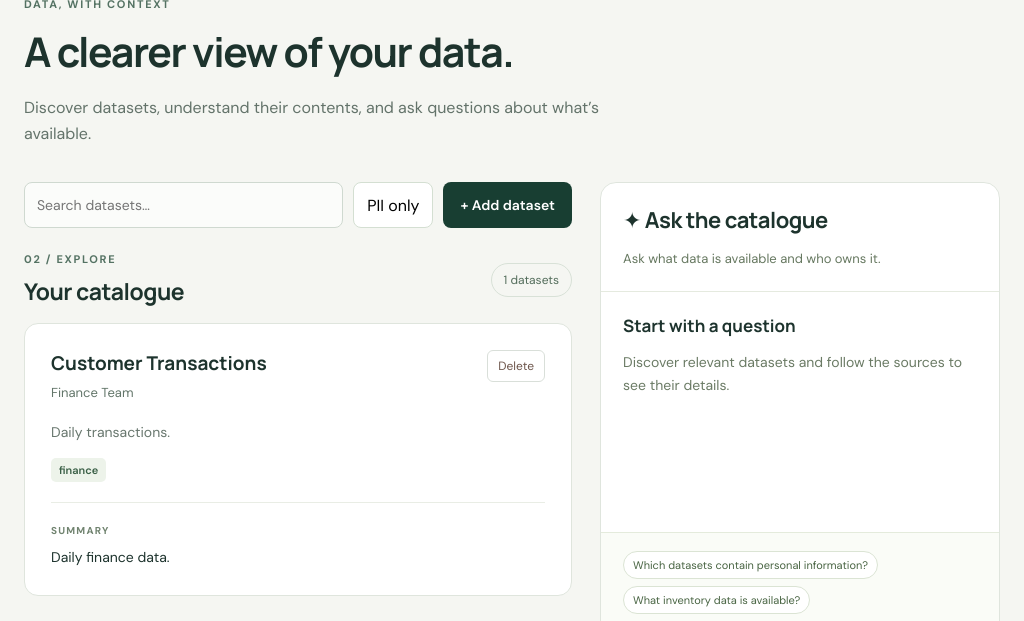
Test case: Catalogue user journeys › creates and deletes without reloading and displays a curation warning
expect the heading "Customer Transactions" is shown: met, box [51,350,267,376]
Click the button "+ Add dataset" at (508,205), box [443,182,572,228]
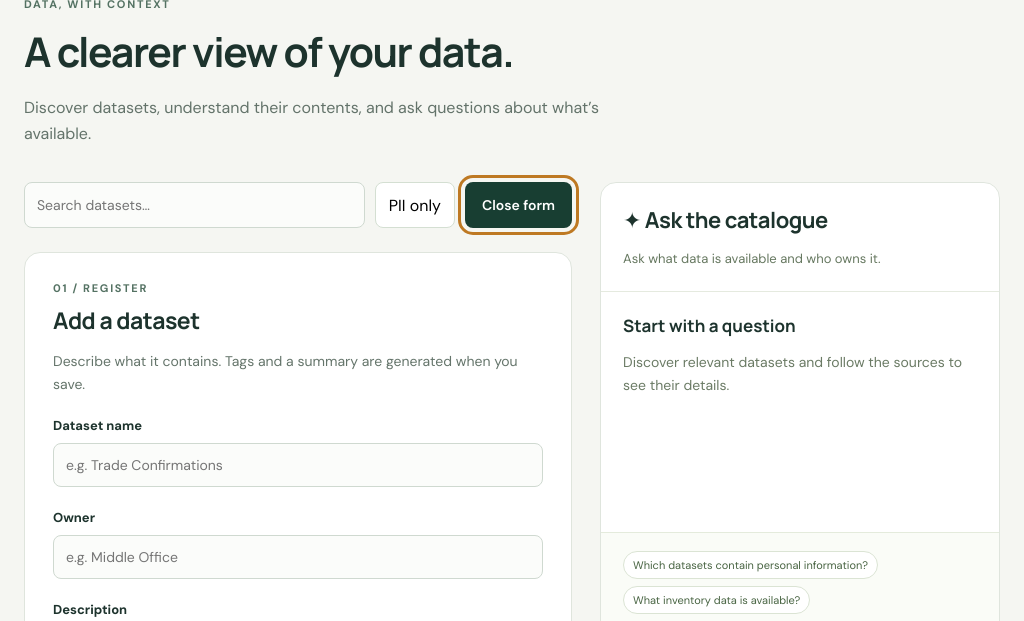
Type "Trade Confirmations" into the field labelled "Dataset name" at (298,465), box [53,443,543,487]
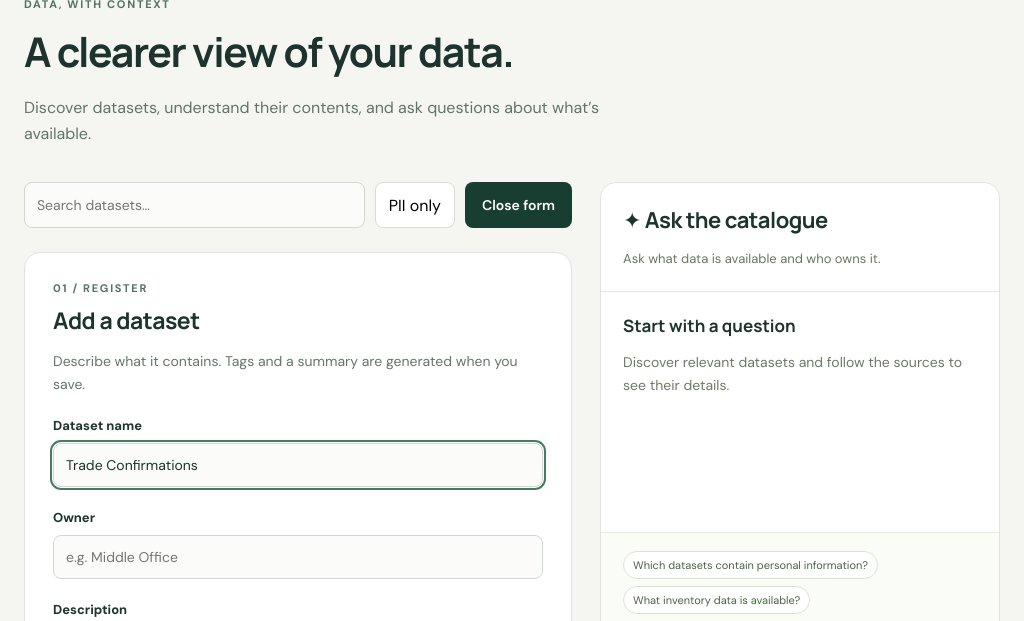
Type "Middle Office" into the field labelled "Owner" at (298,557), box [53,535,543,579]
(page scrolled)
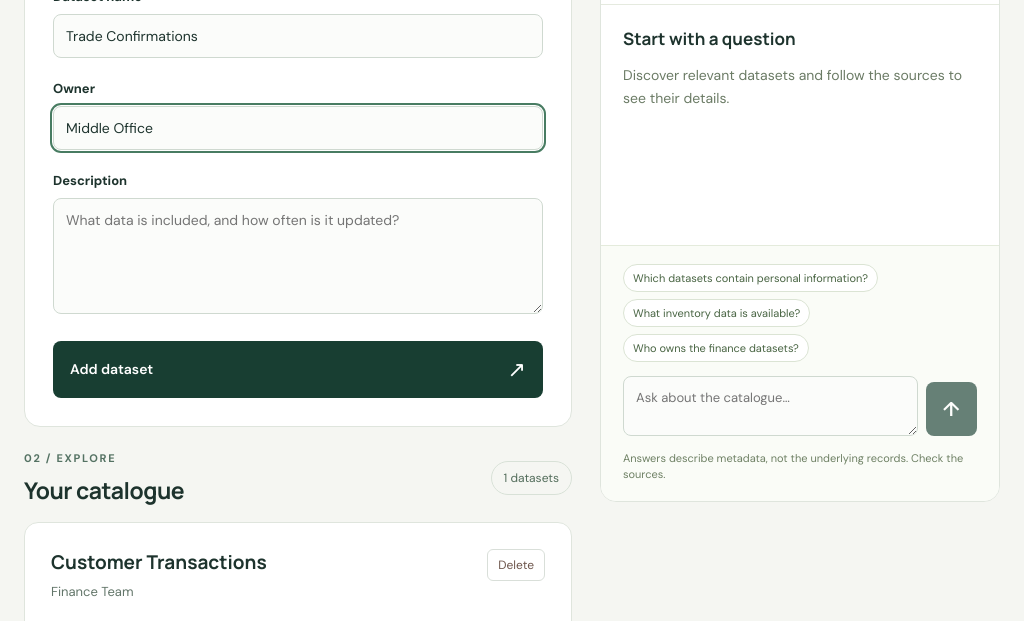
Type "Daily trades." into the text box labelled "Description" at (298,256), box [53,198,543,314]
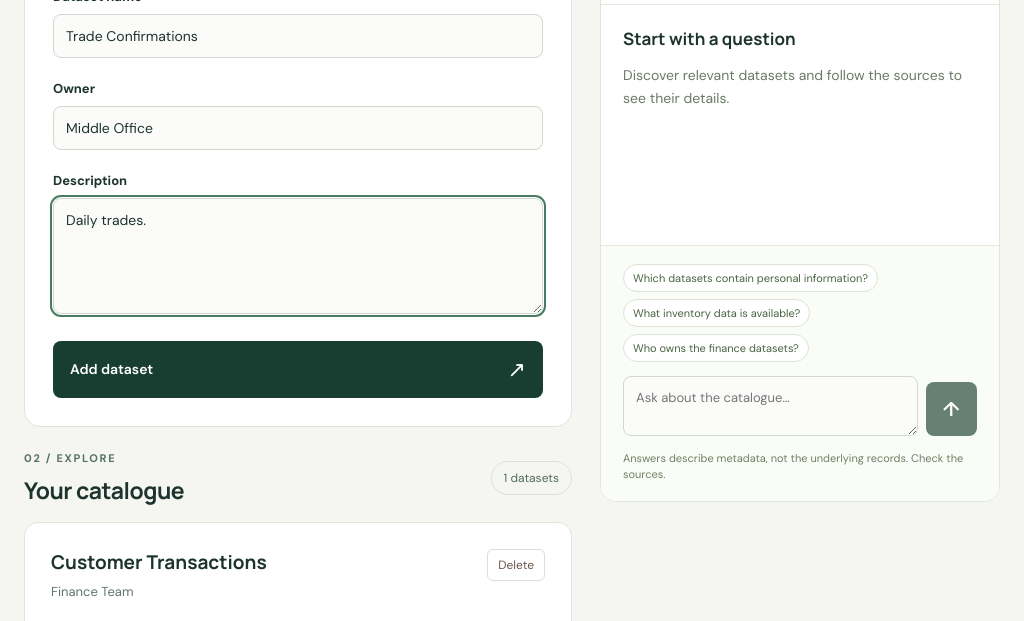
Click the button "Add dataset ↗" at (112,369), box [53,341,543,398]
(page scrolled)
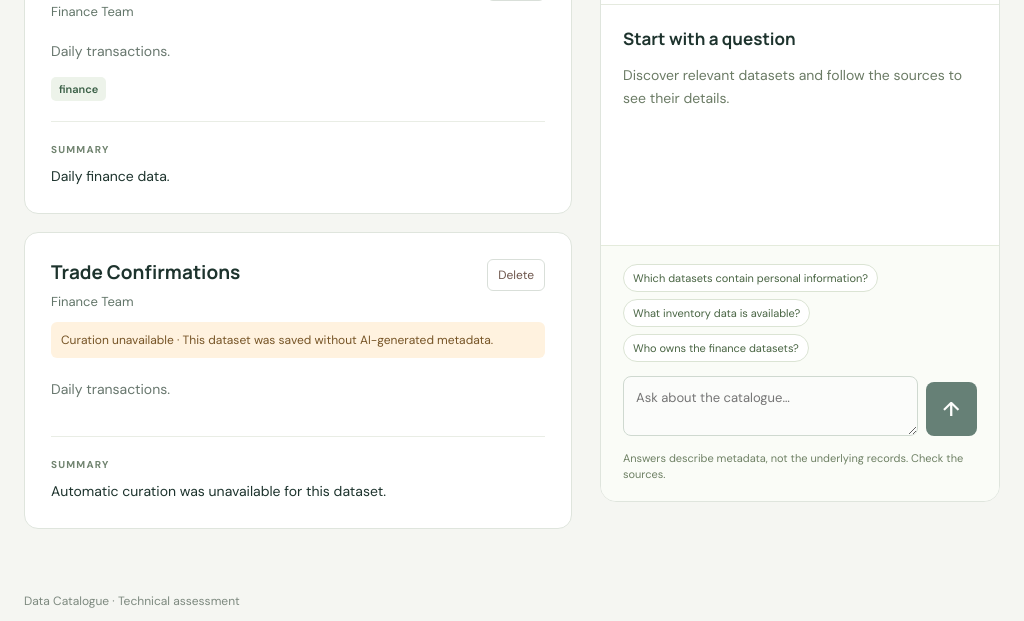
expect the heading "Trade Confirmations" is shown: met, box [51,260,240,286]
Click the button with aria-label "Delete Trade Confirmations" at (516,276), box [487,260,545,292]
(page scrolled)
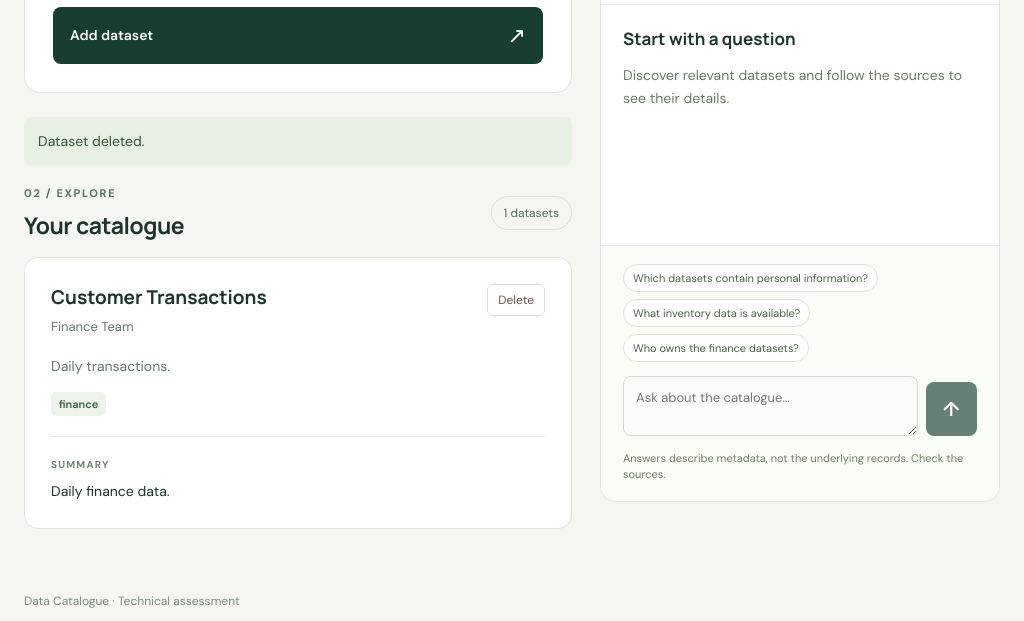
expect the heading "Trade Confirmations" is gone: met
